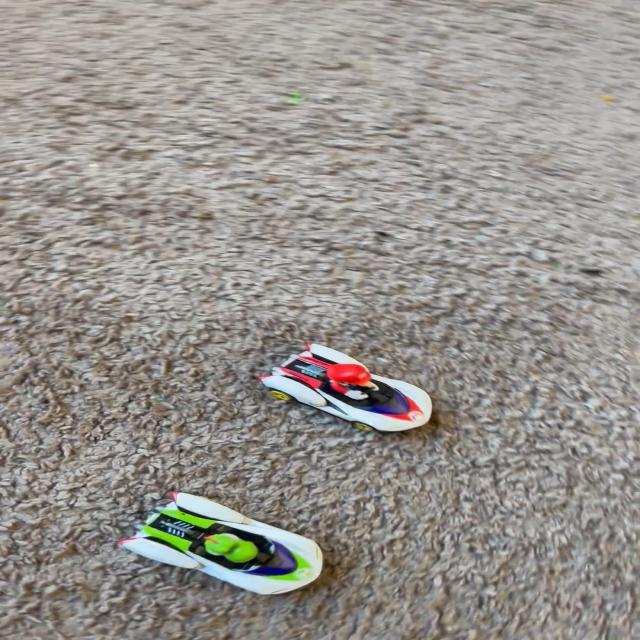mario: (247, 340, 452, 451)
yoshi: (105, 476, 341, 609)
